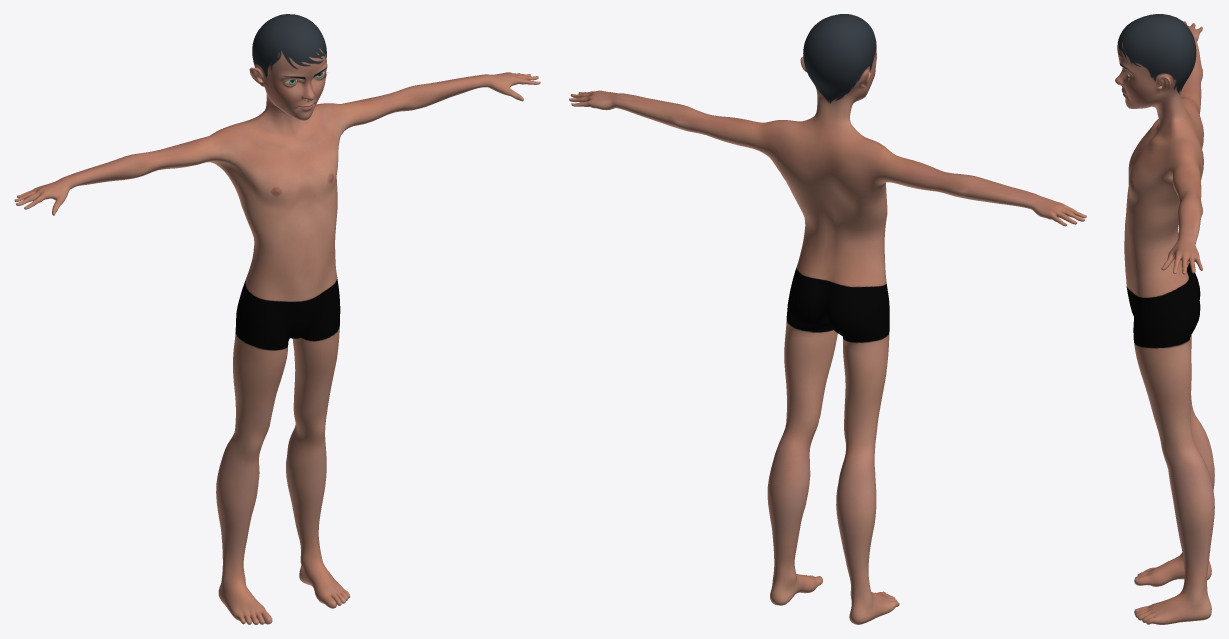
File: moleque-novo.glb
The picture shows the model from 3 angles, left to right: view 1: azimuth 30°, elevation 25°; view 2: azimuth 150°, elevation 25°; view 3: azimuth 270°, elevation 25°; orthographic projection.
Parts seen in each view (by area): view 1: Object_2; view 2: Object_2; view 3: Object_2.
Boxes of the visible parts, <box> form: Object_2: <box>14,14,540,624</box>; Object_2: <box>569,14,1086,624</box>; Object_2: <box>1115,14,1214,624</box>.
Size of the model in its own units: 153 by 165 by 25.57.
Materials: 1 (1 with a texture image).
